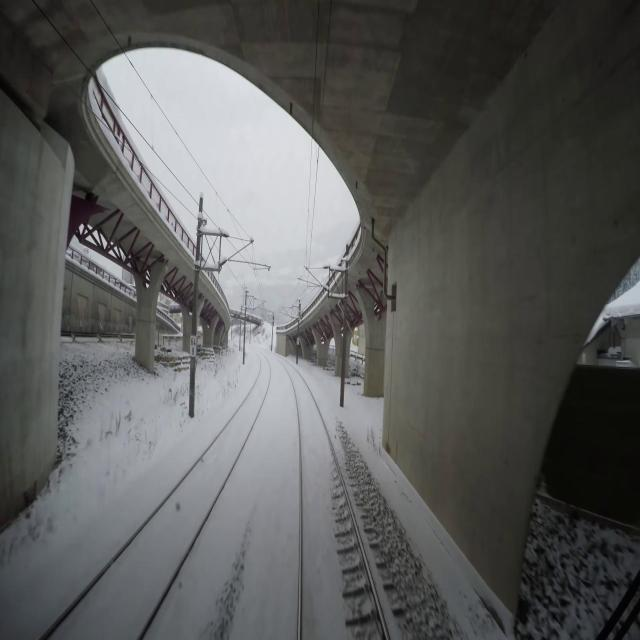rail-track: (46, 355, 268, 639), (286, 365, 385, 639)
